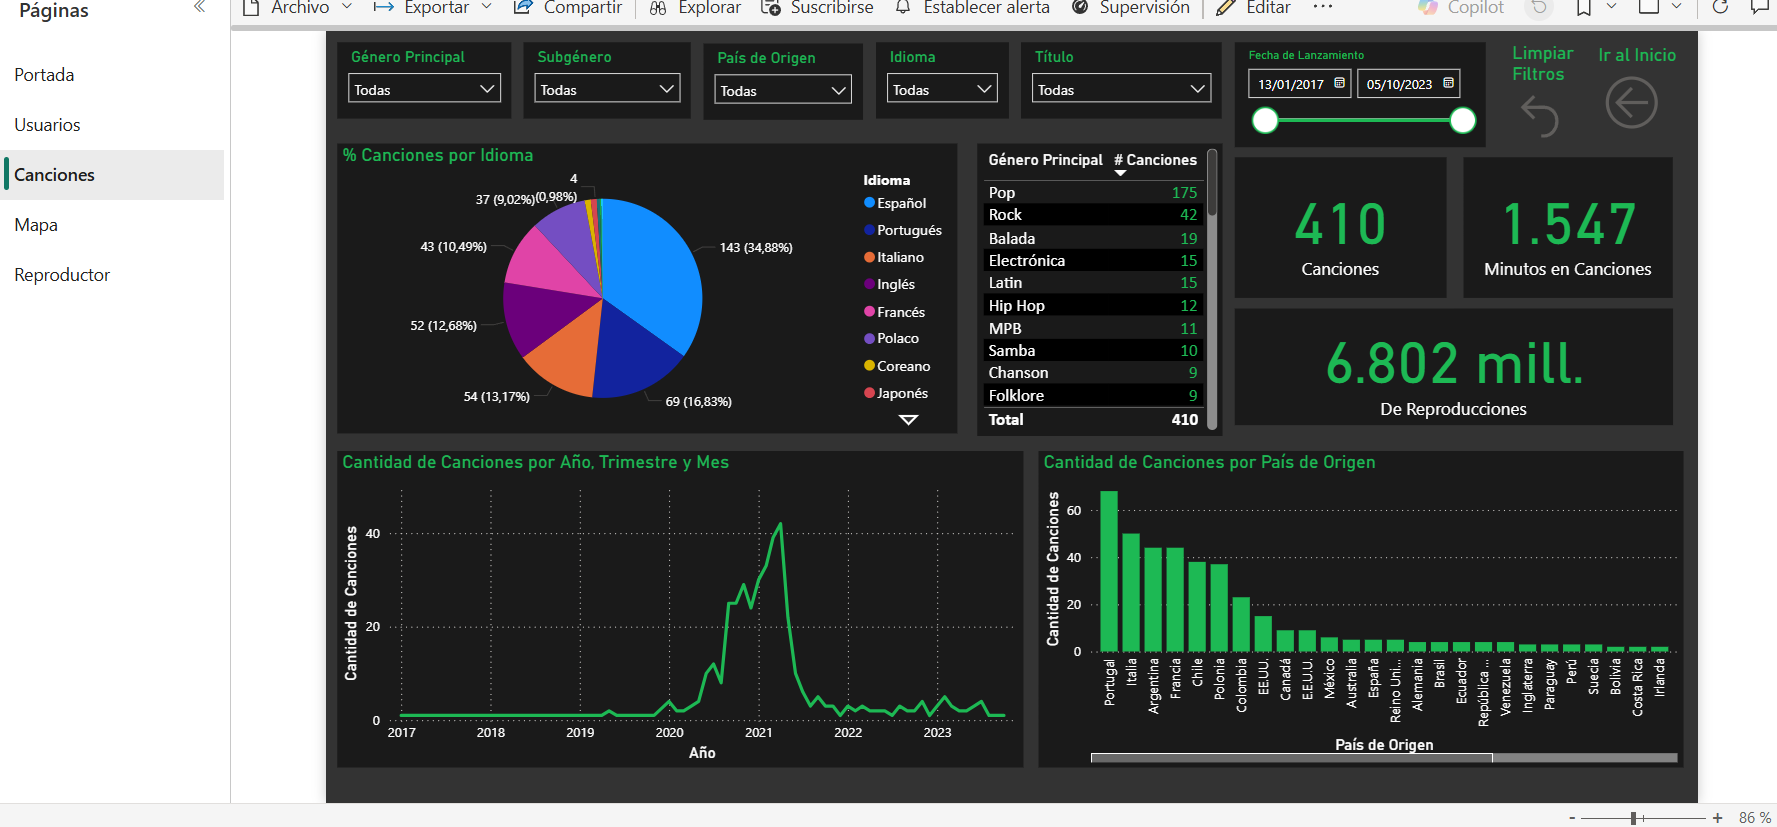

Layout of this report page (visuals, bound fields, positions):
{"tool":"powerbi","page":{"name":"Canciones","canvas":[1280,720],"ordinal":2},"visuals":[{"type":"lineChart","fields":{"Category":["Calendario Fecha Lanzamiento.Date.Variación.Jerarquía de fechas.Año","Calendario Fecha Lanzamiento.Date.Variación.Jerarquía de fechas.Trimestre","Calendario Fecha Lanzamiento.Date.Variación.Jerarquía de fechas.Mes","Calendario Fecha Lanzamiento.Date.Variación.Jerarquía de fechas.Día"],"Y":["Medidas BD_Spotify.Cantidad de Canciones"]},"box":[10,391.2,640,295],"z":0},{"type":"pieChart","fields":{"Category":["BD_Spotify.Idioma Nuevo"],"Y":["Medidas BD_Spotify.Cantidad de Canciones"]},"box":[10,105,578.8,270],"z":1000},{"type":"card","fields":{"Values":["Medidas BD_Spotify.Duración Canciones en Minutos"]},"box":[1061.2,117.5,195,131.2],"z":2000},{"type":"clusteredColumnChart","fields":{"Category":["BD_Spotify.Nuevo País"],"Y":["Medidas BD_Spotify.Cantidad de Canciones"]},"box":[665,391.2,601.2,295],"z":3000},{"type":"card","fields":{"Values":["Medidas BD_Spotify.Reproducciones"]},"box":[847.5,258.8,408.8,108.8],"z":4000},{"type":"card","fields":{"Values":["Medidas BD_Spotify.Cantidad de Canciones"]},"box":[847.5,117.5,197.5,131.2],"z":5000},{"type":"slicer","fields":{"Values":["BD_Spotify.Género Principal"]},"box":[10,10,162.5,71.2],"z":6000},{"type":"slicer","fields":{"Values":["BD_Spotify.Subgénero"]},"box":[184.2,10,156.2,71.2],"z":7000},{"type":"slicer","fields":{"Values":["Calendario Fecha Lanzamiento.Date"]},"box":[847.5,10,233.8,97.5],"z":8000},{"type":"slicer","fields":{"Values":["BD_Spotify.Nuevo País"]},"box":[352.2,11.2,148.8,71.2],"z":9000},{"type":"slicer","fields":{"Values":["BD_Spotify.Idioma Nuevo"]},"box":[512.8,10,123.8,71.2],"z":10000},{"type":"actionButton","title":"Ir al Inicio","box":[1186.2,11.2,80,86.2],"z":11000},{"type":"actionButton","title":"Limpiar Filtros","box":[1106.2,10,70,95],"z":12000},{"type":"slicer","fields":{"Values":["BD_Spotify.Título"]},"box":[648.2,10,187.5,71.2],"z":13000},{"type":"tableEx","fields":{"Values":["BD_Spotify.Género Principal","Medidas BD_Spotify.Cantidad de Canciones"]},"box":[607.5,105,228.8,272.5],"z":14000}]}

Visuals, with their boxes on the page's 1280x720 design canvas (x1, y1, x2, y2). These are canvas units, not pixel positions in the 1777x827 screenshot, which may show the page scaled, cropped or inside an application window:
lineChart - Calendario Fecha Lanzamiento.Date.Variación.Jerarquía de fechas.Año x Calendario Fecha Lanzamiento.Date.Variación.Jerarquía de fechas.Trimestre: bbox=(10, 391, 650, 686)
pieChart - BD_Spotify.Idioma Nuevo x Medidas BD_Spotify.Cantidad de Canciones: bbox=(10, 105, 589, 375)
card - Medidas BD_Spotify.Duración Canciones en Minutos: bbox=(1061, 118, 1256, 249)
clusteredColumnChart - BD_Spotify.Nuevo País x Medidas BD_Spotify.Cantidad de Canciones: bbox=(665, 391, 1266, 686)
card - Medidas BD_Spotify.Reproducciones: bbox=(848, 259, 1256, 368)
card - Medidas BD_Spotify.Cantidad de Canciones: bbox=(848, 118, 1045, 249)
slicer - BD_Spotify.Género Principal: bbox=(10, 10, 172, 81)
slicer - BD_Spotify.Subgénero: bbox=(184, 10, 340, 81)
slicer - Calendario Fecha Lanzamiento.Date: bbox=(848, 10, 1081, 108)
slicer - BD_Spotify.Nuevo País: bbox=(352, 11, 501, 82)
slicer - BD_Spotify.Idioma Nuevo: bbox=(513, 10, 637, 81)
"Ir al Inicio" actionButton: bbox=(1186, 11, 1266, 97)
"Limpiar Filtros" actionButton: bbox=(1106, 10, 1176, 105)
slicer - BD_Spotify.Título: bbox=(648, 10, 836, 81)
tableEx - BD_Spotify.Género Principal x Medidas BD_Spotify.Cantidad de Canciones: bbox=(608, 105, 836, 378)
